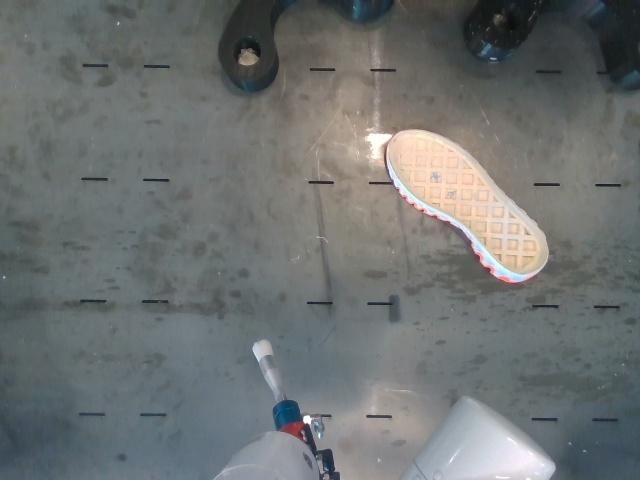shoes: (389, 131, 548, 275)
